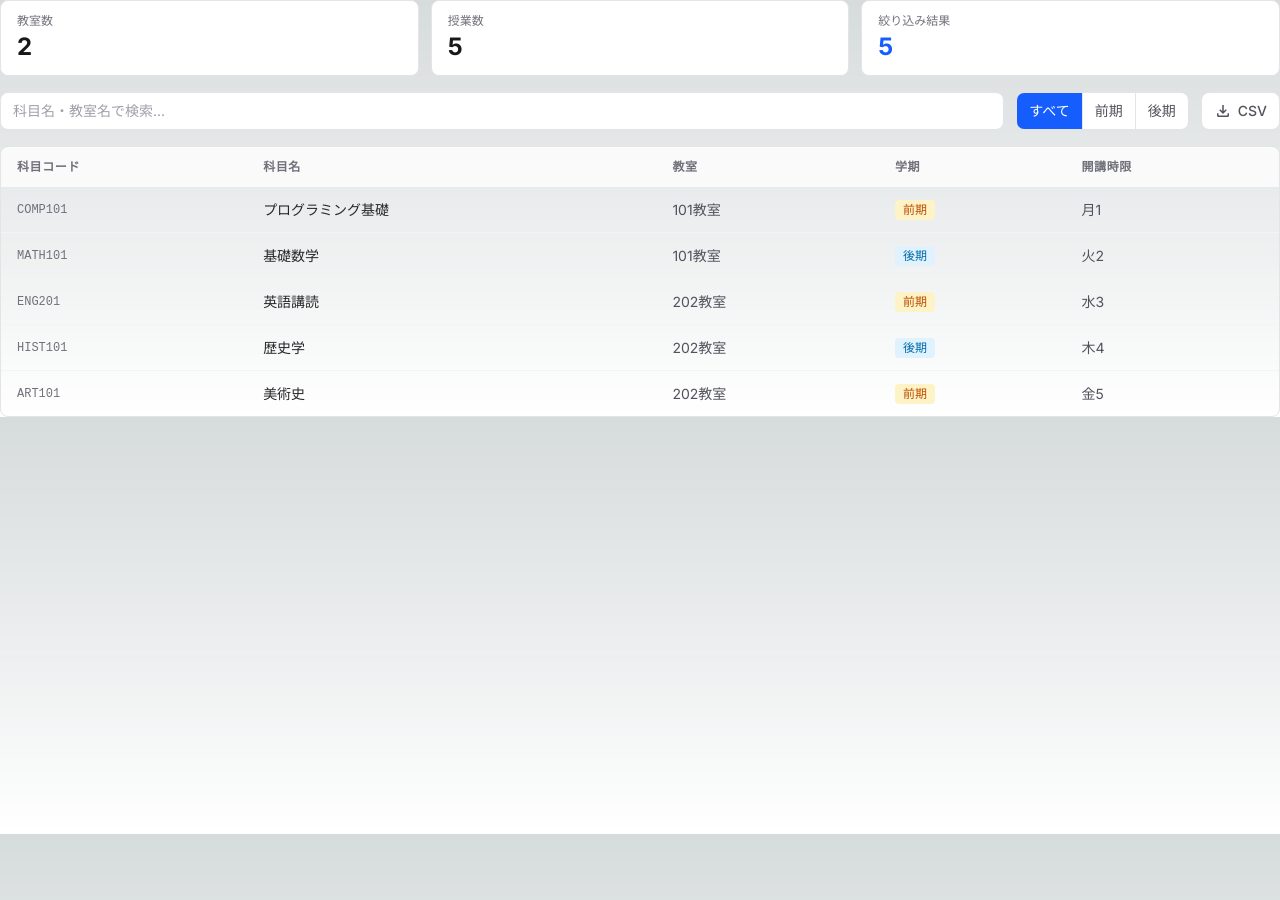
Test case: SyllabusDataBrowser Component › Filtering › filters correctly by search text
The width and height of the screenshot is (1280, 900).
Step 1. Type "プログラミング" into the field with placeholder "科目名・教室名で検索..." → [502, 111], box [0,92,1004,130]
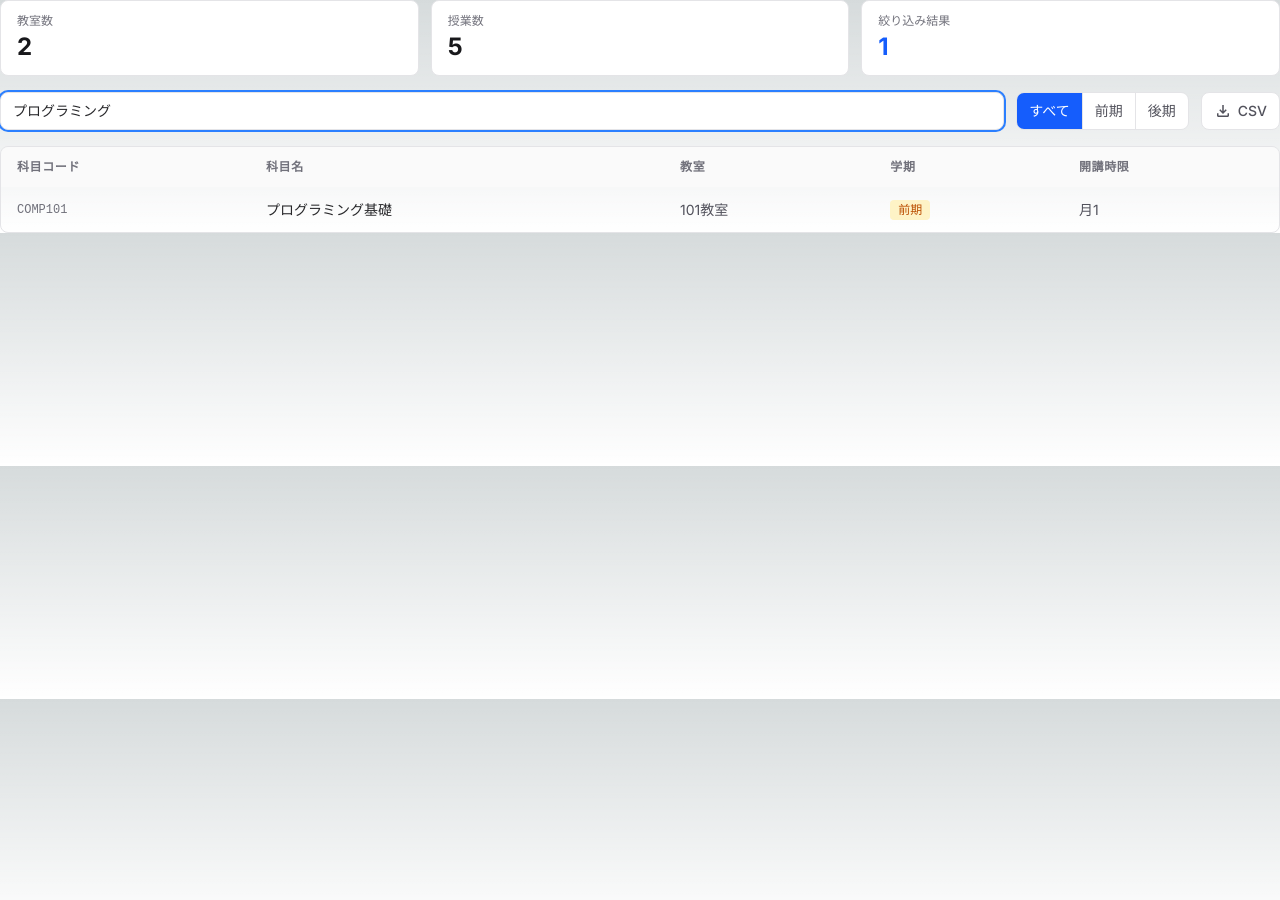
Expected: the text "プログラミング基礎" is shown, [250,187,664,232]
Result: the text "基礎数学" is gone
Result: the text "英語講読" is gone
